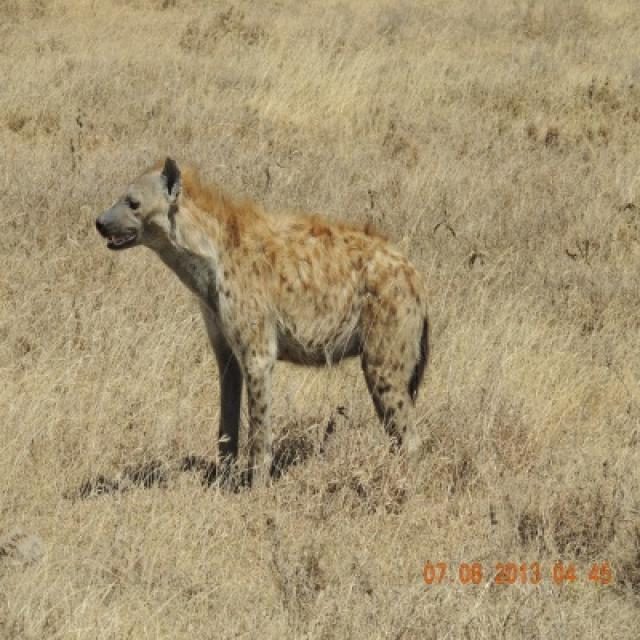hyena: (96, 157, 427, 467)
